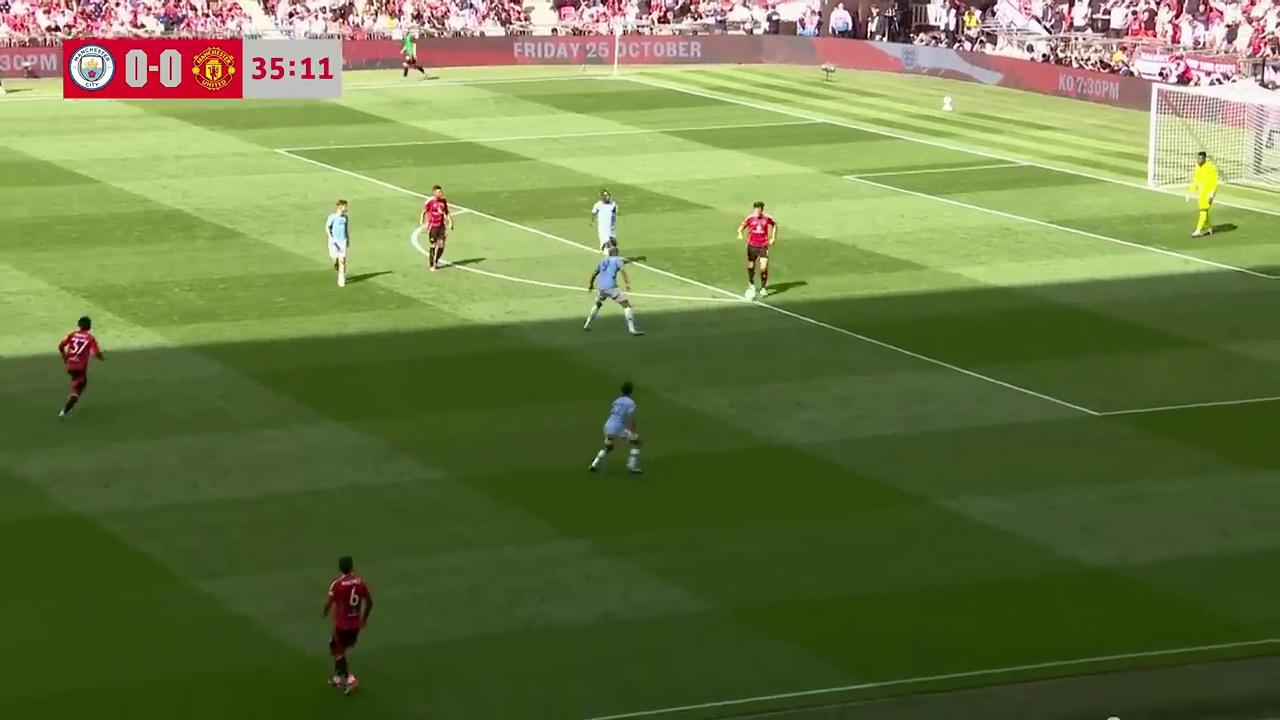ball: (741, 284, 756, 302)
player: (321, 556, 372, 694), (587, 382, 643, 475), (582, 246, 641, 334), (56, 317, 106, 419), (737, 201, 776, 299), (417, 184, 452, 270), (1191, 153, 1217, 237), (325, 199, 349, 287), (590, 189, 619, 256)
